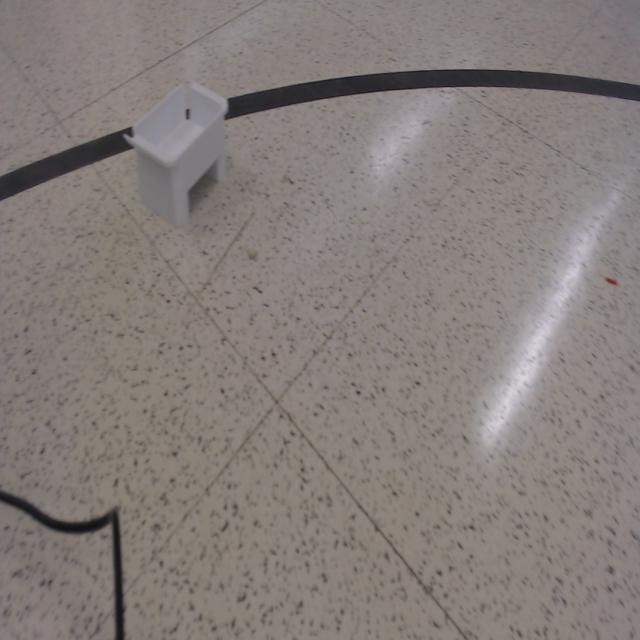wbox: (121, 74, 230, 228)
